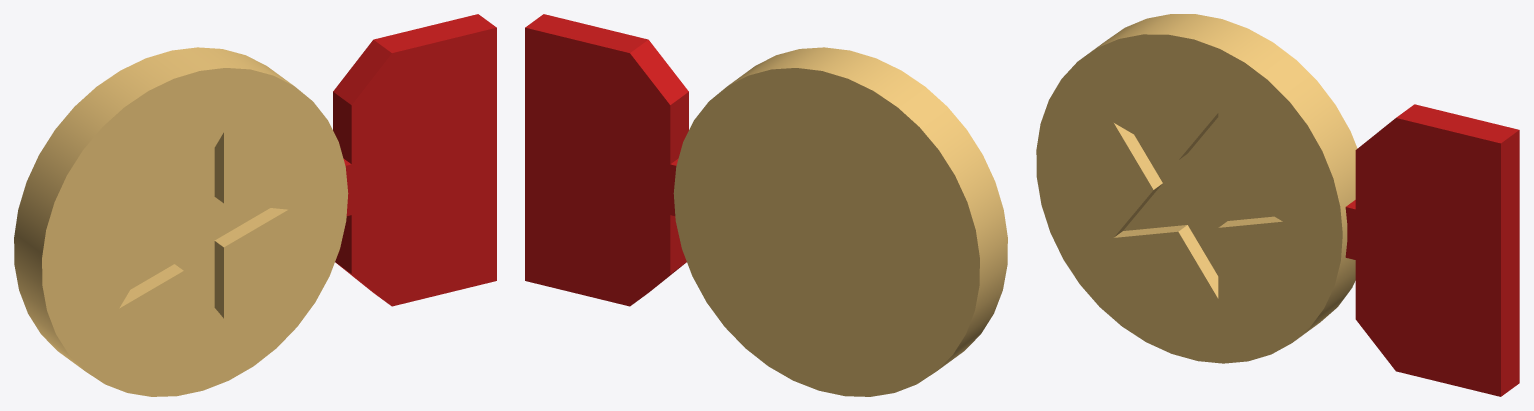
File: Medal.obj
The picture shows the model from 3 angles, left to right: view 1: azimuth 30°, elevation 25°; view 2: azimuth 150°, elevation 25°; view 3: azimuth 330°, elevation 25°; orthographic projection.
Parts seen in each view (by area): view 1: Body362; view 2: Body362; view 3: Body362.
Boxes of the visible parts, left/top/right/bottom form: Body362: left=14, top=14, right=496, bottom=396; Body362: left=525, top=14, right=1007, bottom=396; Body362: left=1036, top=14, right=1519, bottom=396.
Bounding box in the file's own units: 28.47 × 18.98 × 3.
